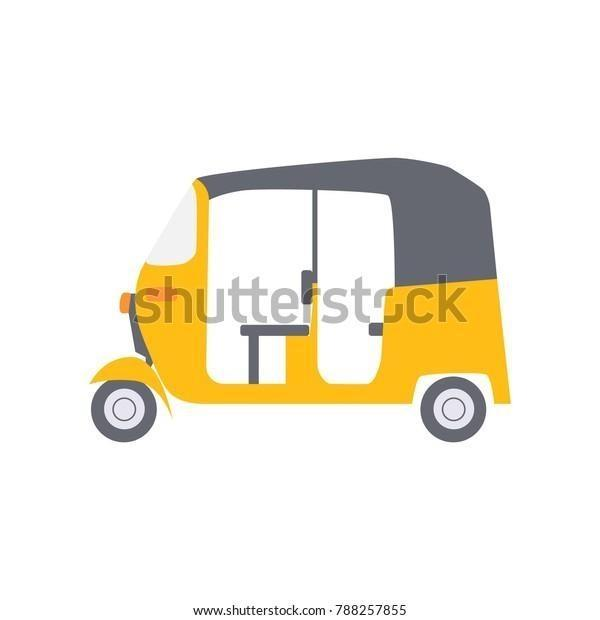keke: (85, 154, 512, 462)
